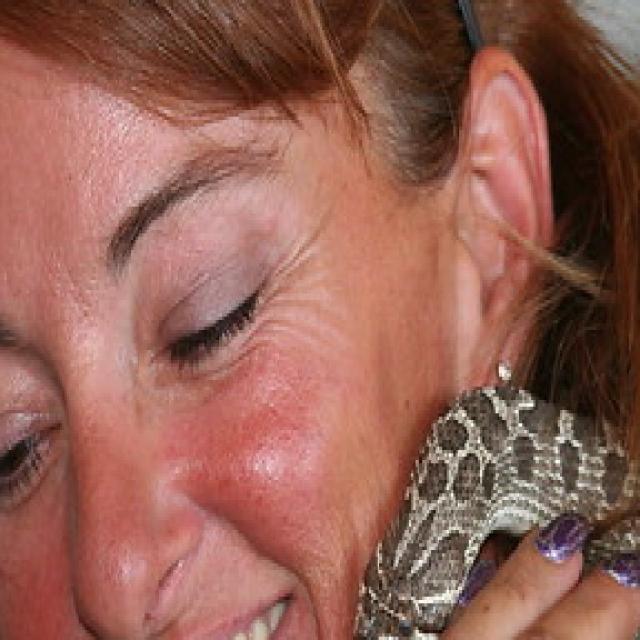Snake: (351, 366, 640, 640)
